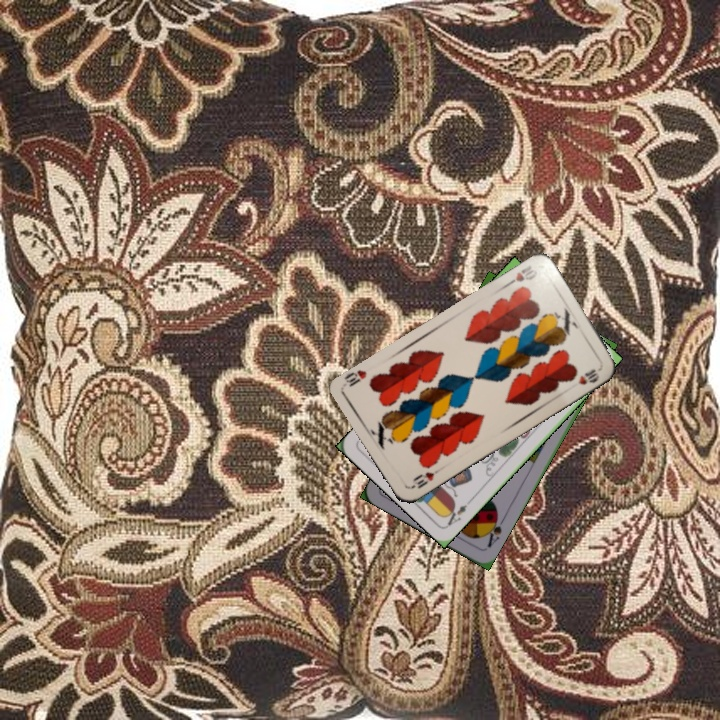EA: (440, 495, 474, 528)
H10: (502, 261, 540, 289), (407, 465, 443, 492)
SA: (480, 510, 507, 550)
